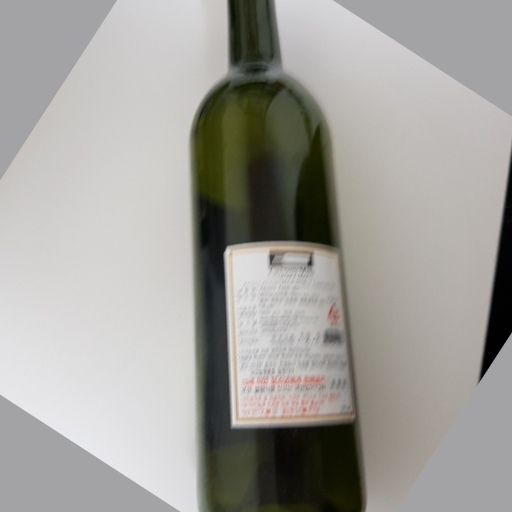Glass_2: (183, 1, 375, 512)
